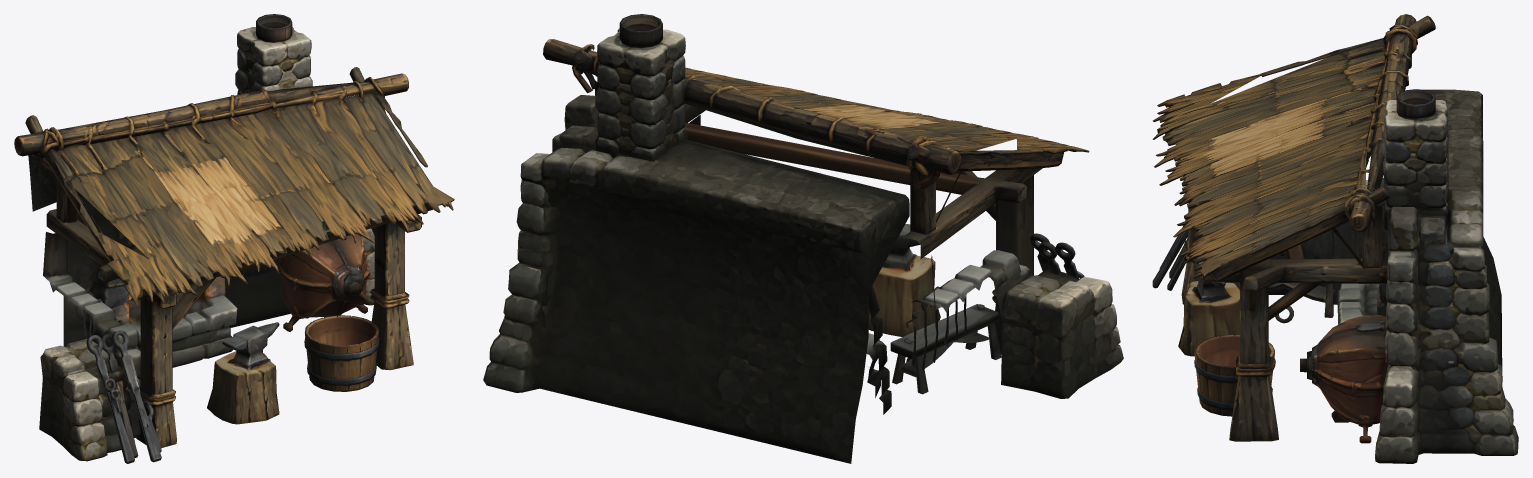
File: act1_extras_v1_forge.glb
The picture shows the model from 3 angles, left to right: view 1: azimuth 30°, elevation 25°; view 2: azimuth 150°, elevation 25°; view 3: azimuth 270°, elevation 25°; orthographic projection. The views are drawn at different scales.
Visible parts, largest first — view 1: f6a3a0ef_ecf6_4360_86b3_1e62dcfc4cfd; view 2: f6a3a0ef_ecf6_4360_86b3_1e62dcfc4cfd; view 3: f6a3a0ef_ecf6_4360_86b3_1e62dcfc4cfd.
Part boxes in pixels (x1,y1,x2,y2): f6a3a0ef_ecf6_4360_86b3_1e62dcfc4cfd: [14, 14, 454, 463]; f6a3a0ef_ecf6_4360_86b3_1e62dcfc4cfd: [483, 14, 1123, 463]; f6a3a0ef_ecf6_4360_86b3_1e62dcfc4cfd: [1152, 14, 1518, 463].
Size of the model in its own units: 0.9995 by 0.688 by 0.7251.
1 material, 1 textured.
